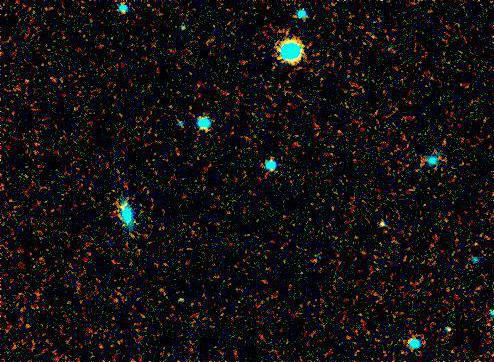star: (165, 287, 195, 317)
